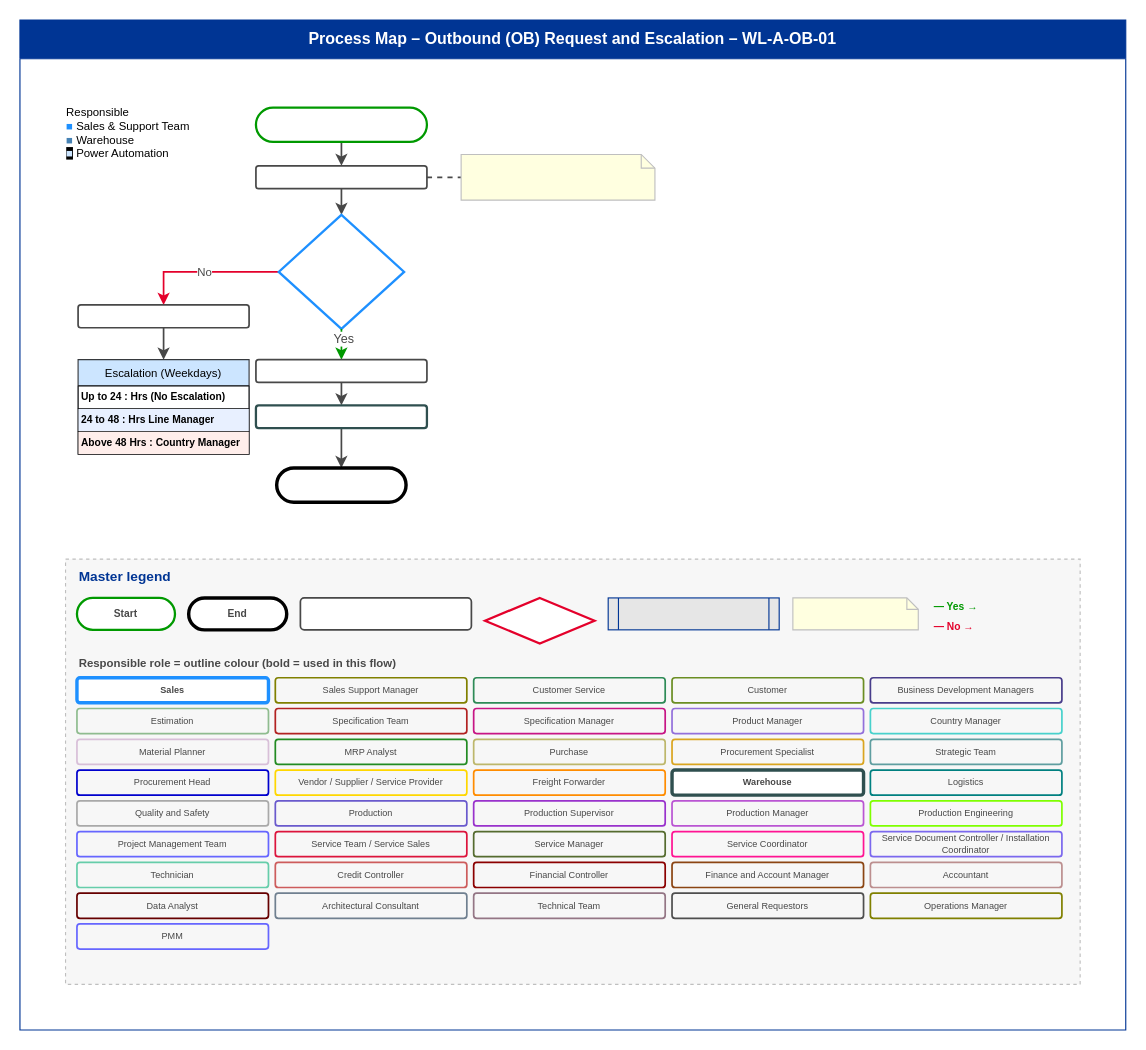
The diagram is 1146 pixels wide and 1050 high, and some of its shapes have lost their labels. Each missing label, with the centre of its shape:
"Acknowledge OB" goes at [340,416].
"Activity (outline = role)" goes at [385,613].
"Calculate Duration in HR" goes at [163,316].
"Decision" goes at [539,620].
"Linked process (Ref ID)" goes at [693,613].
"Material Outbound" goes at [340,124].
"Note / checklist" goes at [855,613].
"Notify Warehouse RLC" goes at [341,370].
"OB Complete" goes at [340,484].
"OB request Submitted" goes at [341,177].
"Outbound Created?" goes at [341,271].
"Requestors: Trading Item: Intercompany Buyer Produced Item: Production Planner" goes at [557,176].
